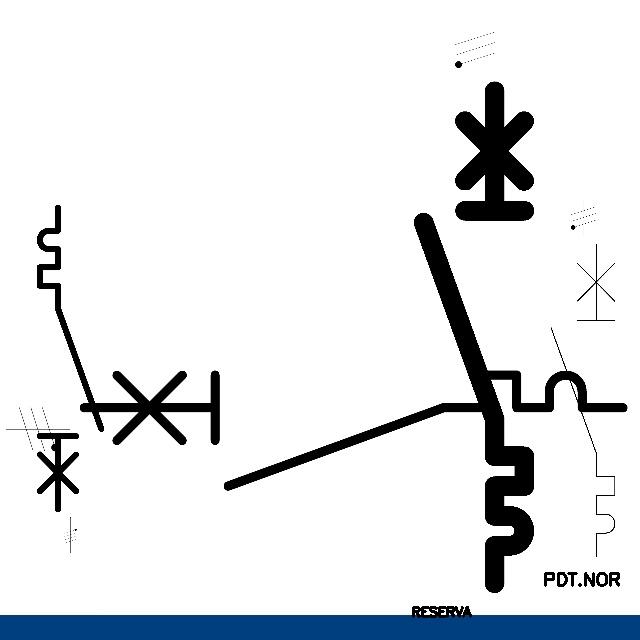interruptor_termomagnetico: (70, 361, 637, 500), (411, 78, 537, 595), (543, 236, 623, 565), (32, 200, 109, 517)
